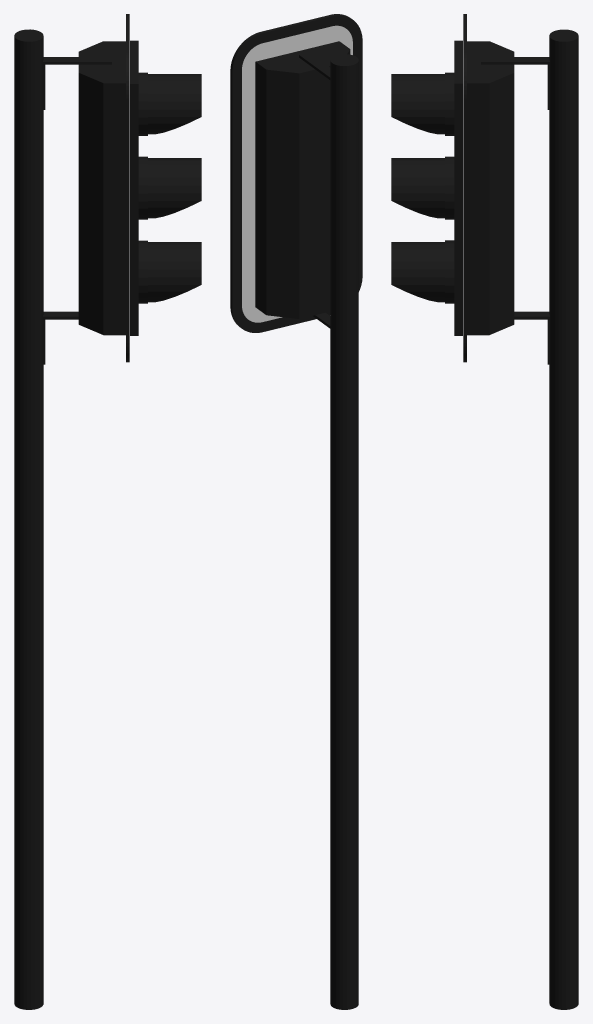
The model's file is traffic.gltf.
3 views of the same model, side by side, from view 1: azimuth 90°, elevation 25°; view 2: azimuth 210°, elevation 25°; view 3: azimuth 270°, elevation 25° (orthographic). The views are drawn at different scales.
Bounding box in the file's own units: 0.3607 × 2.5 × 0.4375.
3 materials, 3 textured.
